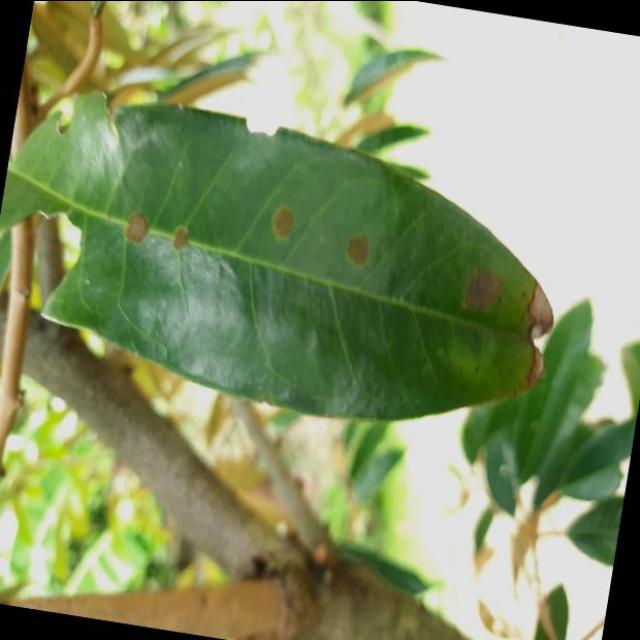Algal Leaf Spot: (0, 69, 589, 462)
